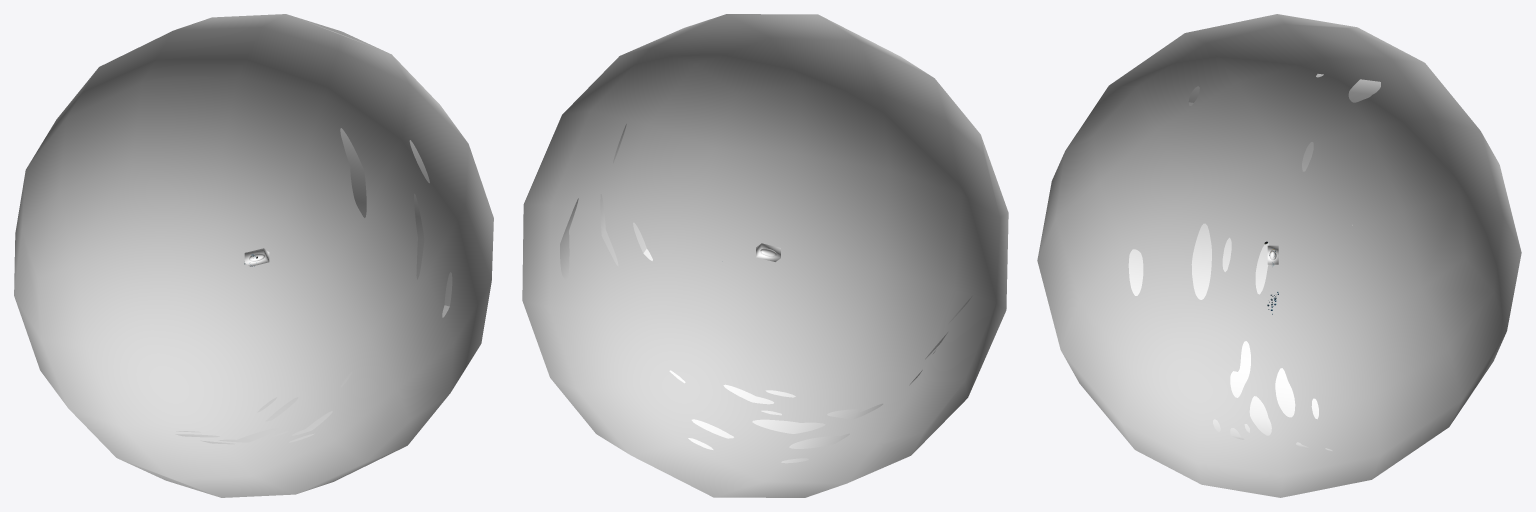
3 views of the same model, side by side, from view 1: azimuth 30°, elevation 25°; view 2: azimuth 150°, elevation 25°; view 3: azimuth 270°, elevation 25° (orthographic). The views are drawn at different scales.
Visible parts, largest first — view 1: A:\.Yandex.YandexDisk.SK SHARED FILES.Game models.1 Exported (×2); view 2: A:\.Yandex.YandexDisk.SK SHARED FILES.Game models.1 Exported (×2); view 3: A:\.Yandex.YandexDisk.SK SHARED FILES.Game models.1 Exported (×2).
Part boxes in pixels (x1=…): A:\.Yandex.YandexDisk.SK SHARED FILES.Game models.1 Exported (×2): x1=14, y1=14, x2=493, y2=497; A:\.Yandex.YandexDisk.SK SHARED FILES.Game models.1 Exported (×2): x1=522, y1=14, x2=1008, y2=497; A:\.Yandex.YandexDisk.SK SHARED FILES.Game models.1 Exported (×2): x1=1037, y1=14, x2=1521, y2=497.
Bounding box in the file's own units: 266 × 266 × 266.
10 materials, 6 textured.
